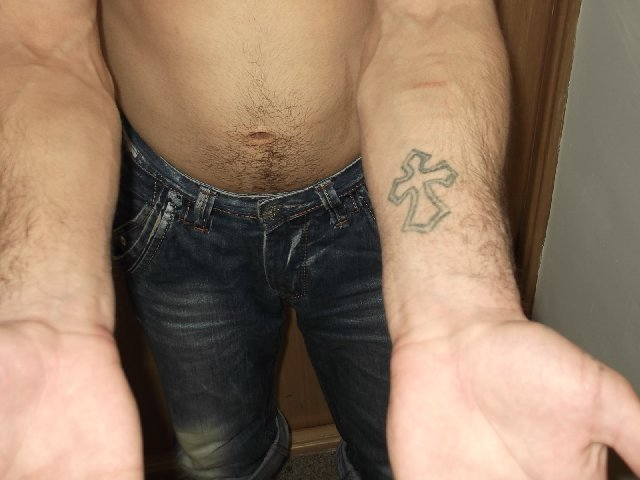tatu9_krest: (391, 146, 456, 246)
